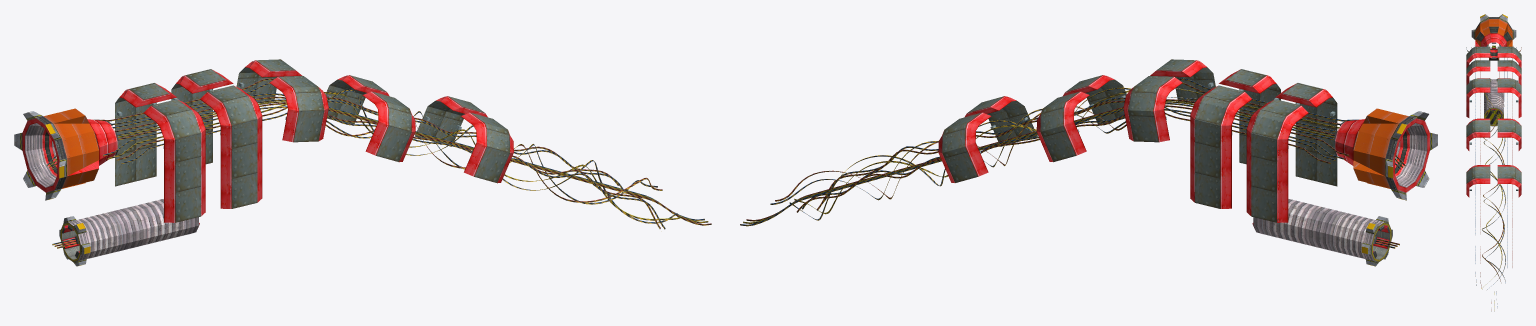
File: railcanyon15.obj
3 views of the same model, side by side, from view 1: azimuth 30°, elevation 25°; view 2: azimuth 150°, elevation 25°; view 3: azimuth 270°, elevation 25° (orthographic). The views are drawn at different scales.
Parts seen in each view (by area): view 1: Object_2, obj1; view 2: Object_2, obj1; view 3: Object_2, obj1.
Part boxes in pixels (x1,y1,x2,y2): Object_2: (14,59,711,266); obj1: (29,155,79,259); Object_2: (740,59,1437,266); obj1: (1373,155,1422,259); Object_2: (1466,14,1521,311); obj1: (1490,45,1497,58).
Bounding box in the file's own units: 4819 × 1838 × 690.
Materials: 46 (45 with a texture image).
